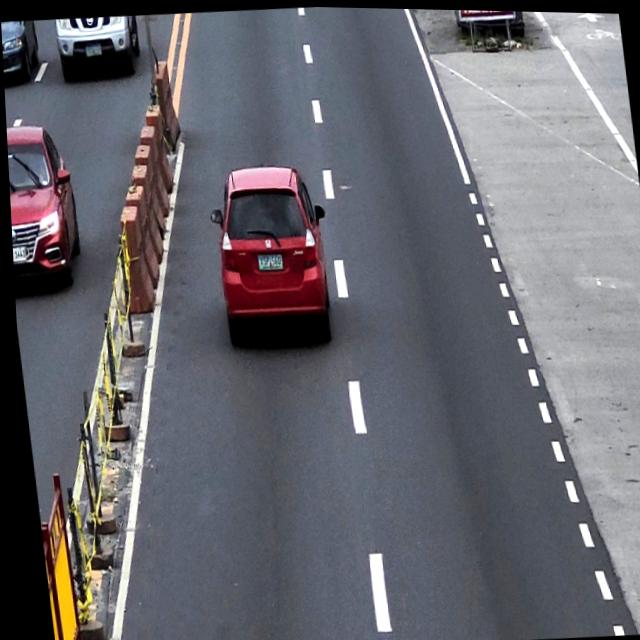Car: (201, 160, 338, 351)
License-Plate: (253, 251, 281, 270)
